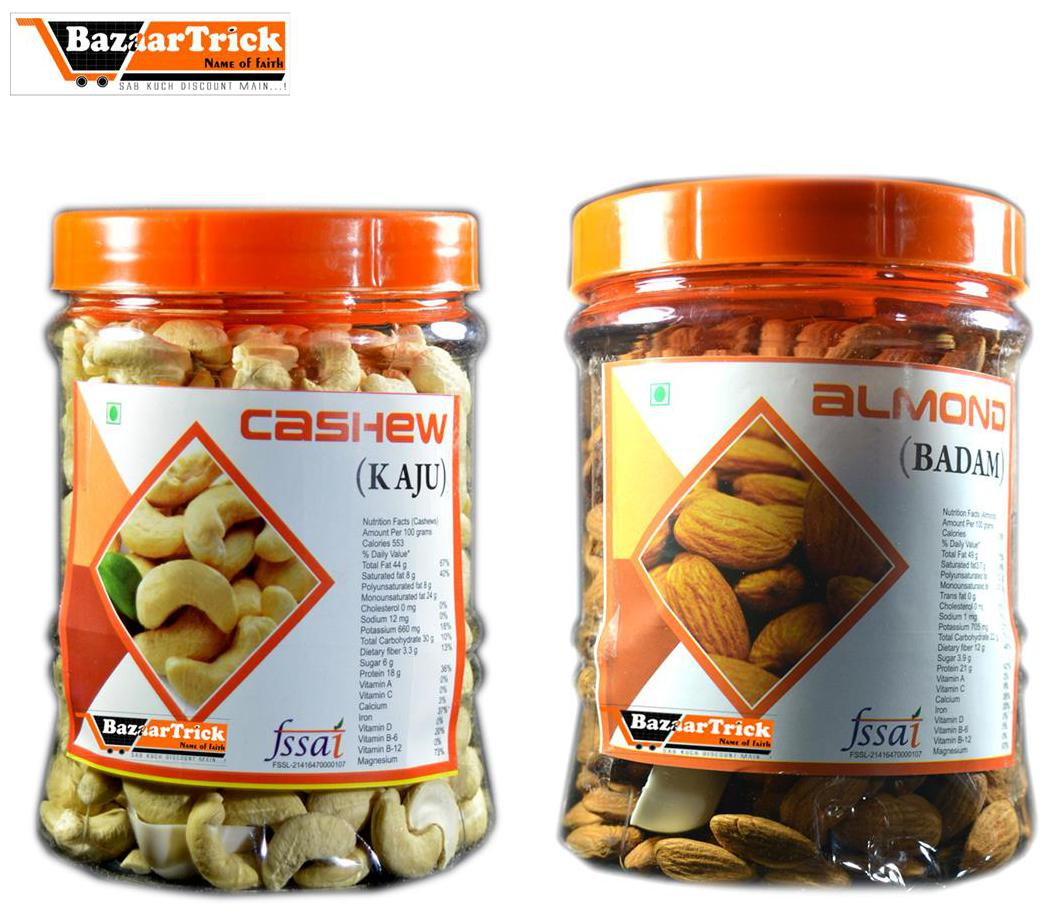JAR: (546, 165, 1045, 898), (28, 199, 500, 899)
